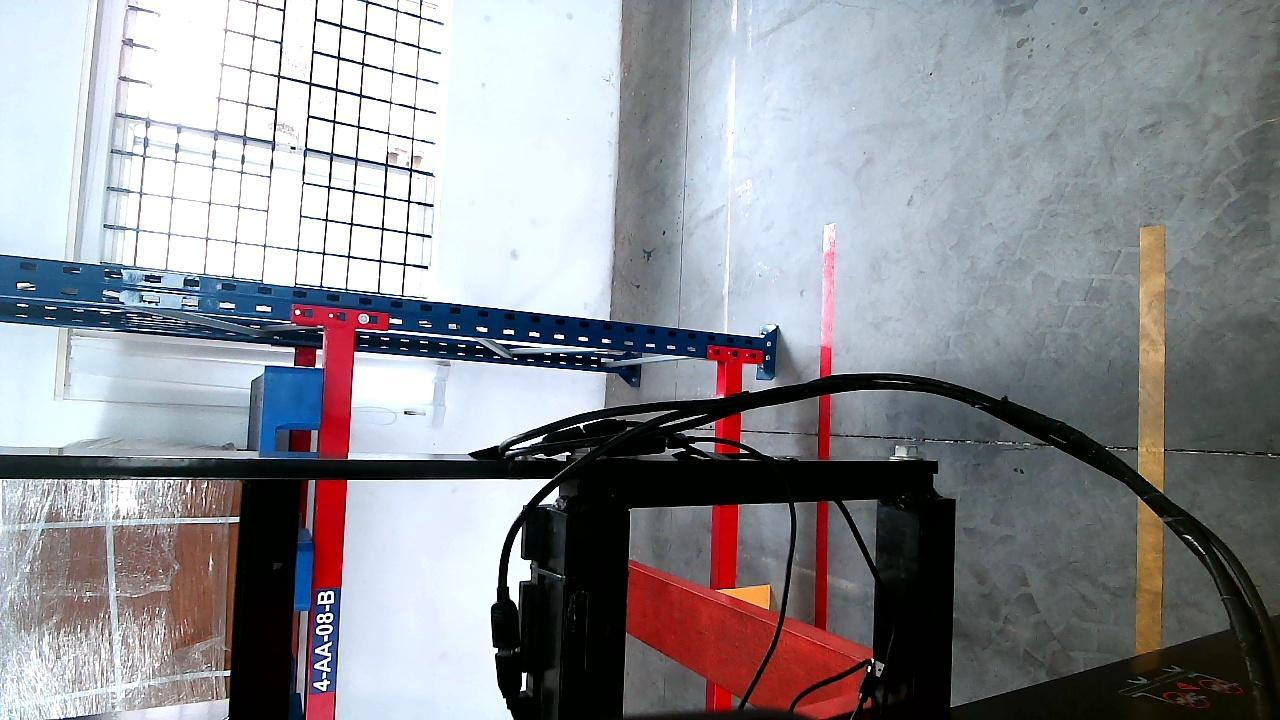red_line: (812, 228, 840, 625)
yellow_line: (1136, 217, 1164, 669)
